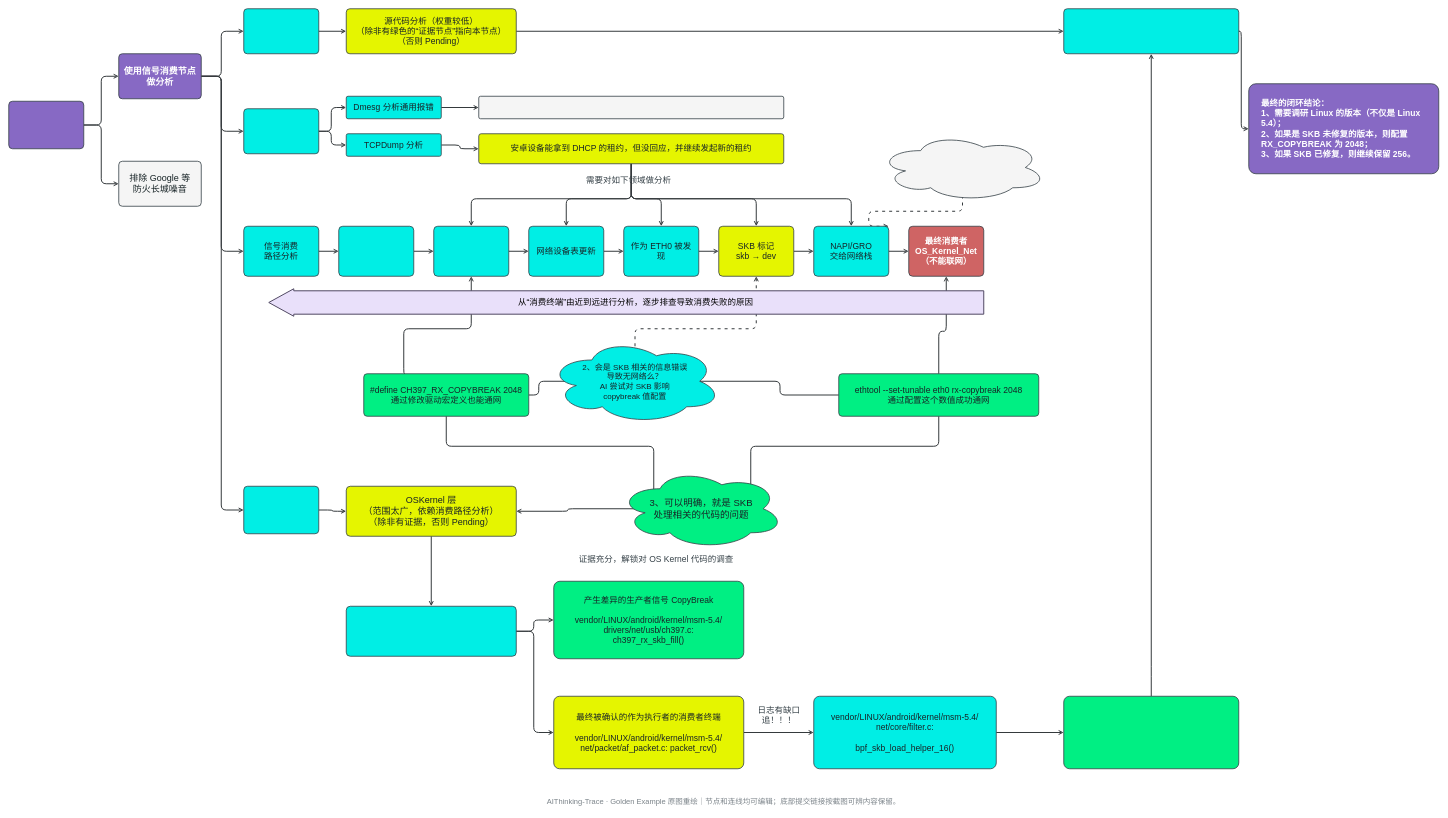
The diagram is 1448 pixels wide and 818 high, and some of its shapes have lost their labels. The box of each missing label's shape, as (x1, y1, x2, y2) in pixels:
1、会是 GRO 的切片不正确 导致无网络吗？ 不是，关闭配置后依旧无变化: (878, 133, 1046, 201)
CH397 芯片原始 寄存器数据: (338, 226, 414, 276)
OSKernel 层：证据充足，解除 Pending 聚焦 SKB 相关的源码: (346, 606, 516, 656)
USB 驱动 注册为网络设备 （CH397.c）: (433, 226, 509, 276)
只有一次 BAD_Header_Length（低频）: (478, 96, 784, 119)
最终追溯到 Linux 提交 github.com/gregkh/linux/commit/… （原图完整提交链接未转录）: (1063, 696, 1239, 769)
核心目标： 设备无法联网: (8, 101, 84, 149)
消费终端节点: (243, 486, 319, 534)
生产终端节点: (243, 8, 319, 54)
联网动作 路径分析: (243, 108, 319, 154)
证据充分：未对 Linux 版本做兼容 需要检查代码: (1063, 8, 1239, 54)
